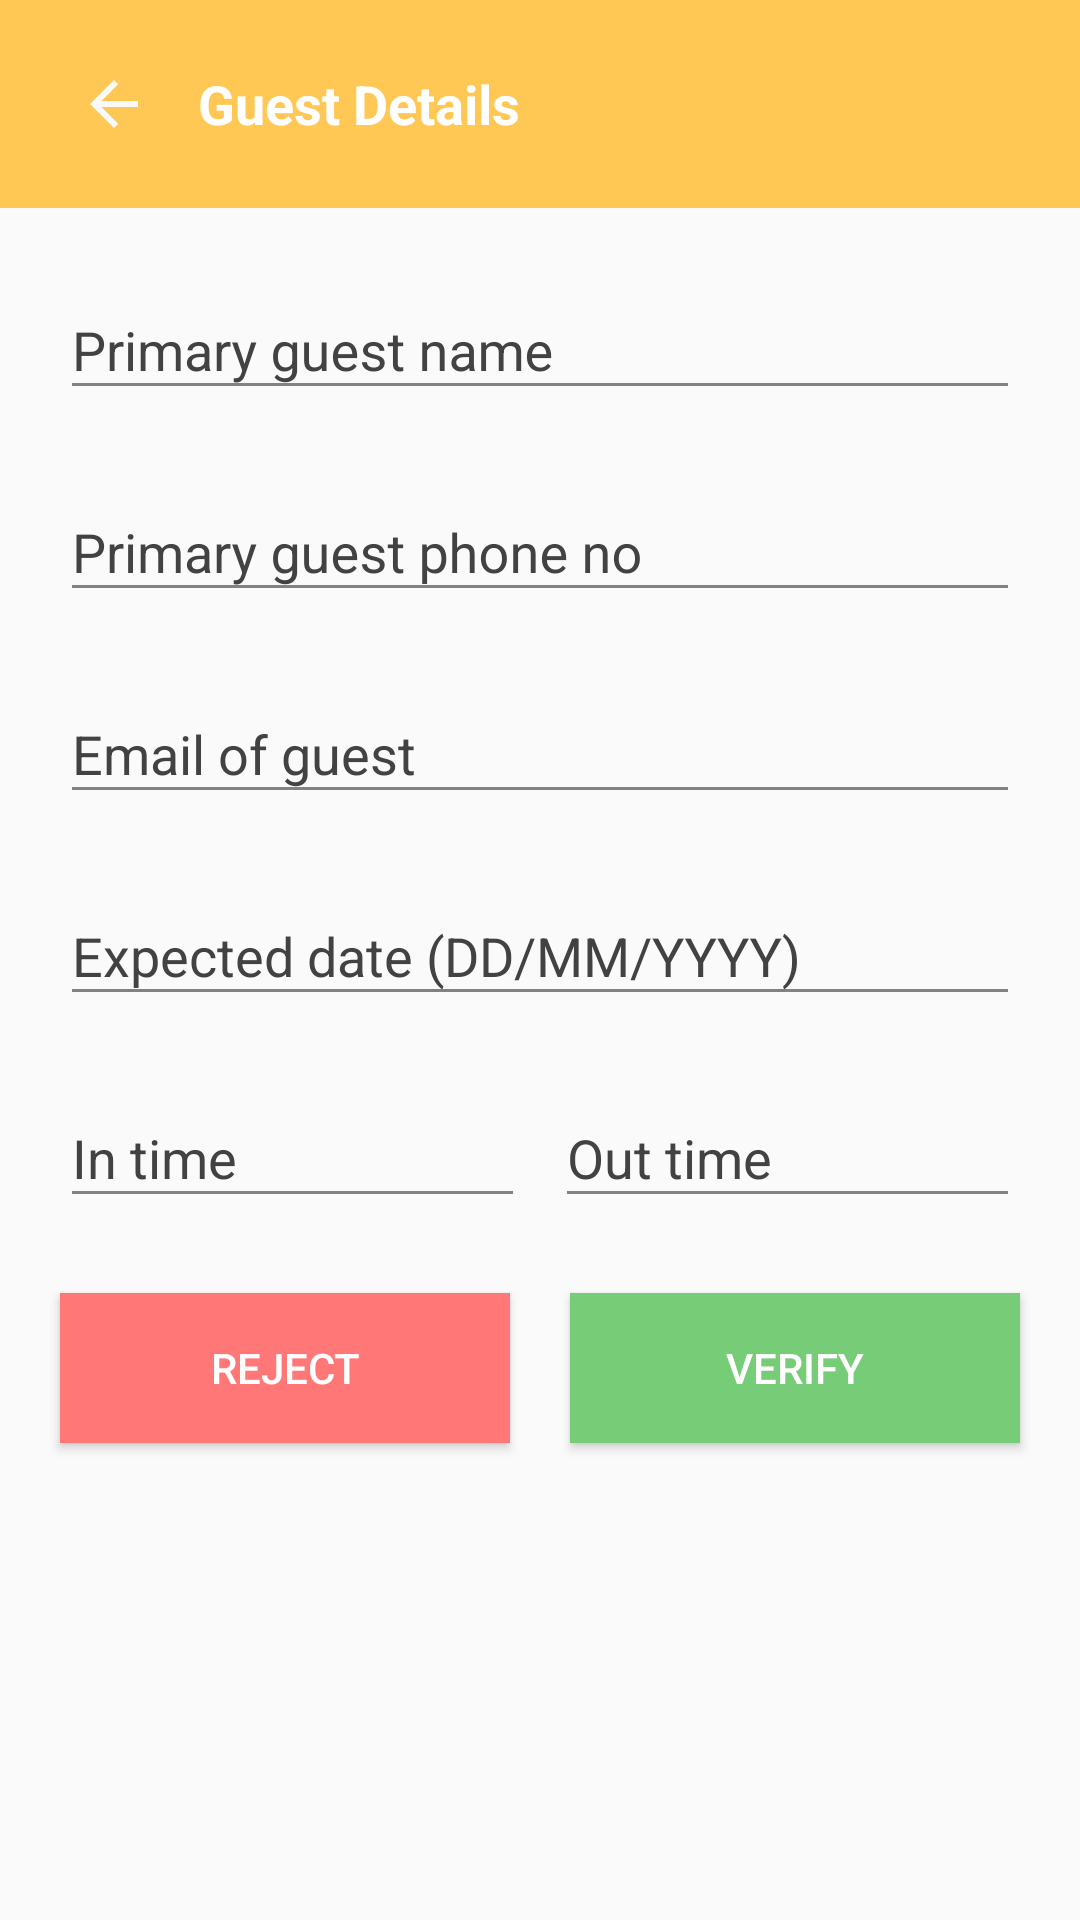

Named icons in this screenshot (1080×1920) and their bounding boxes, (x1, y1, x2, y2):
arrow back: (90, 80, 138, 128)
